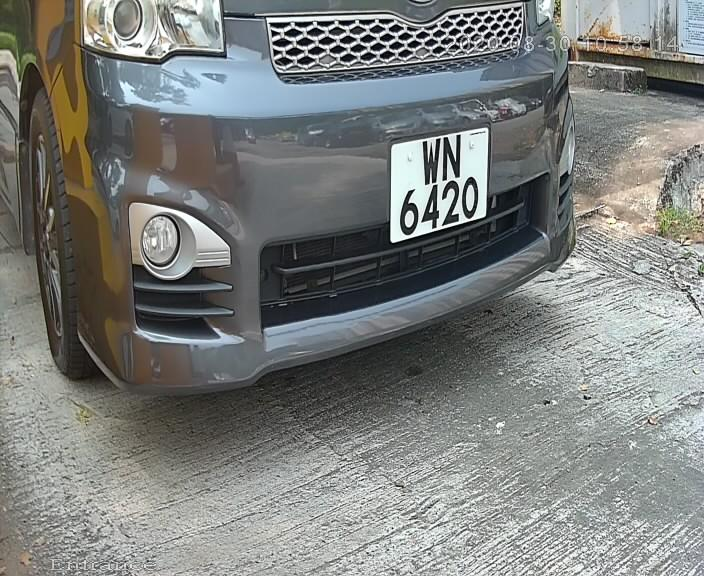Car: (1, 1, 626, 435)
License Plate: (381, 116, 503, 258)
